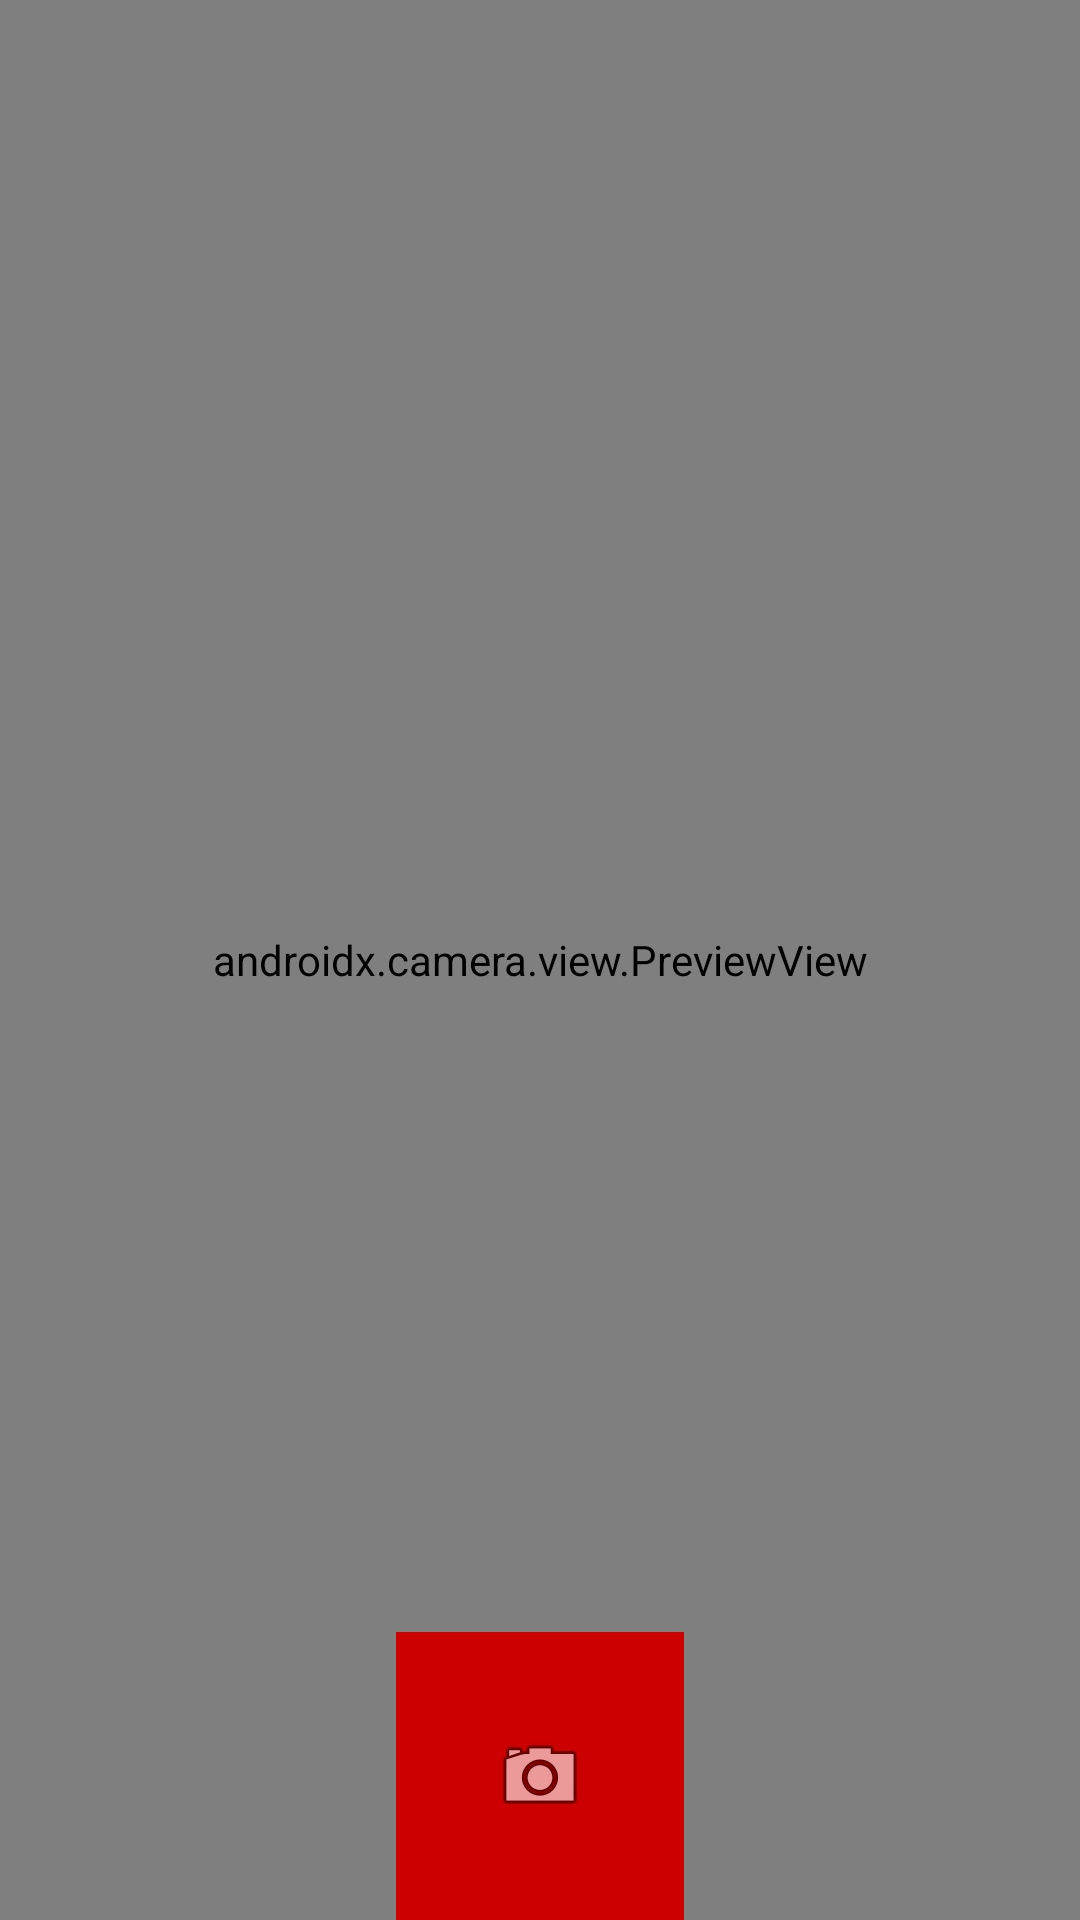

Icon bounding boxes for this 1080*1920 phone screenshot, format (x1, y1, x2, y2):
Record: (396, 1632, 684, 1920)
